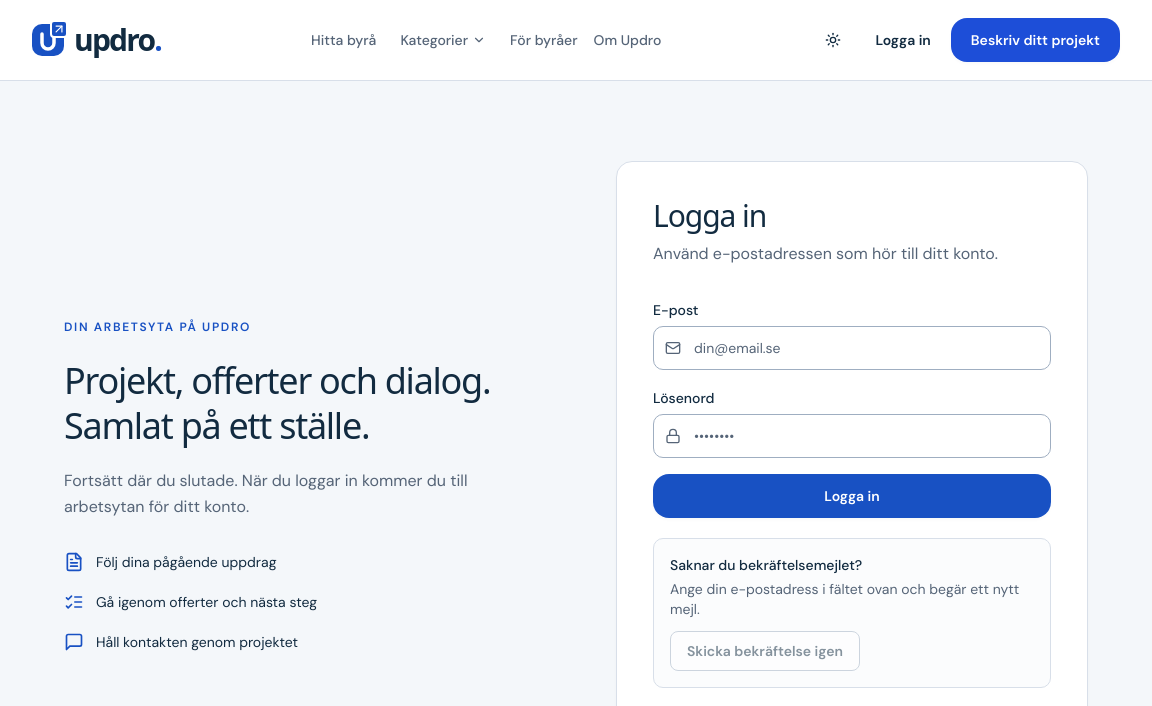
Test: explains email_not_confirmed separately on the login form
The width and height of the screenshot is (1152, 706).
Step 1. Type "user@example.test" into the field labelled "E-post" → (852, 348), box x1=653 y1=326 x2=1051 y2=370
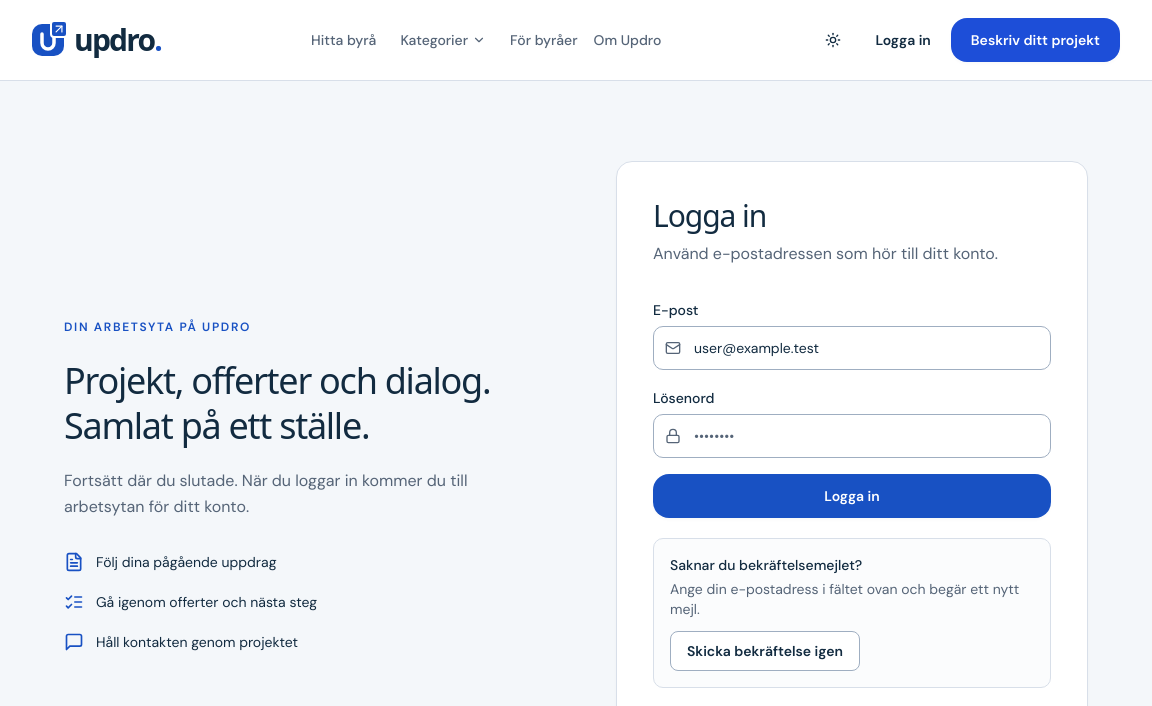
Step 2. Type "password" into the password field labelled "Lösenord" → (852, 436), box x1=653 y1=414 x2=1051 y2=458
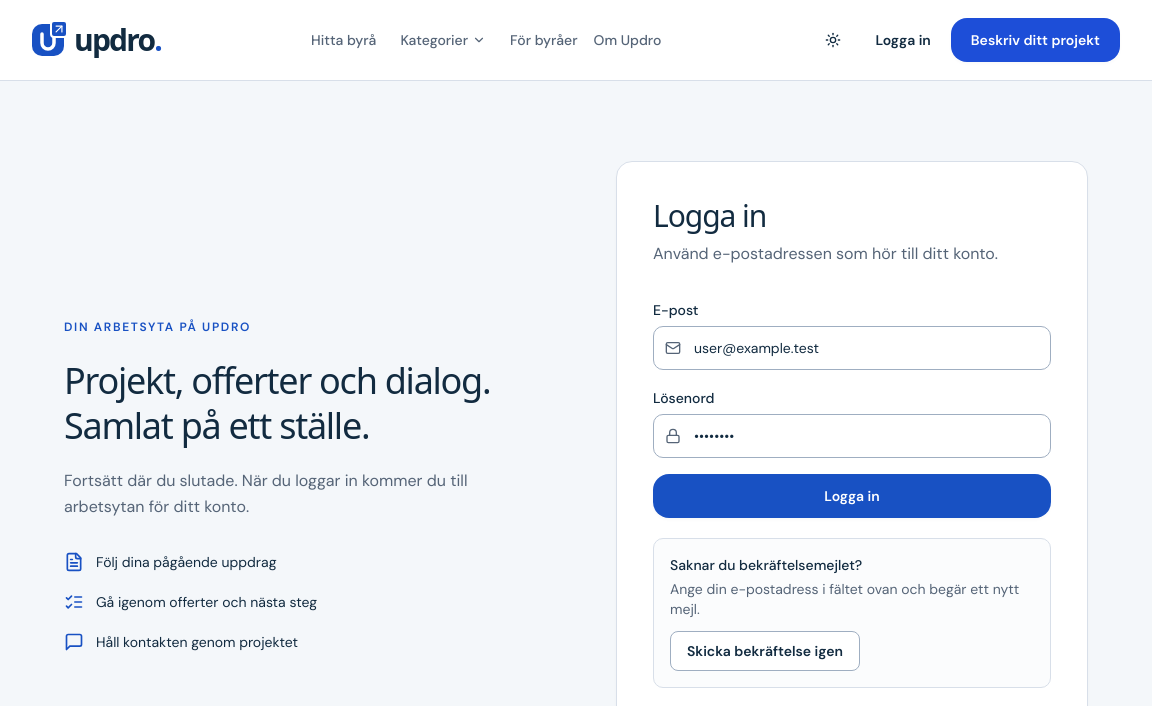
Step 3. Click the button "Logga in" → (852, 496), box x1=653 y1=474 x2=1051 y2=518
(page scrolled)
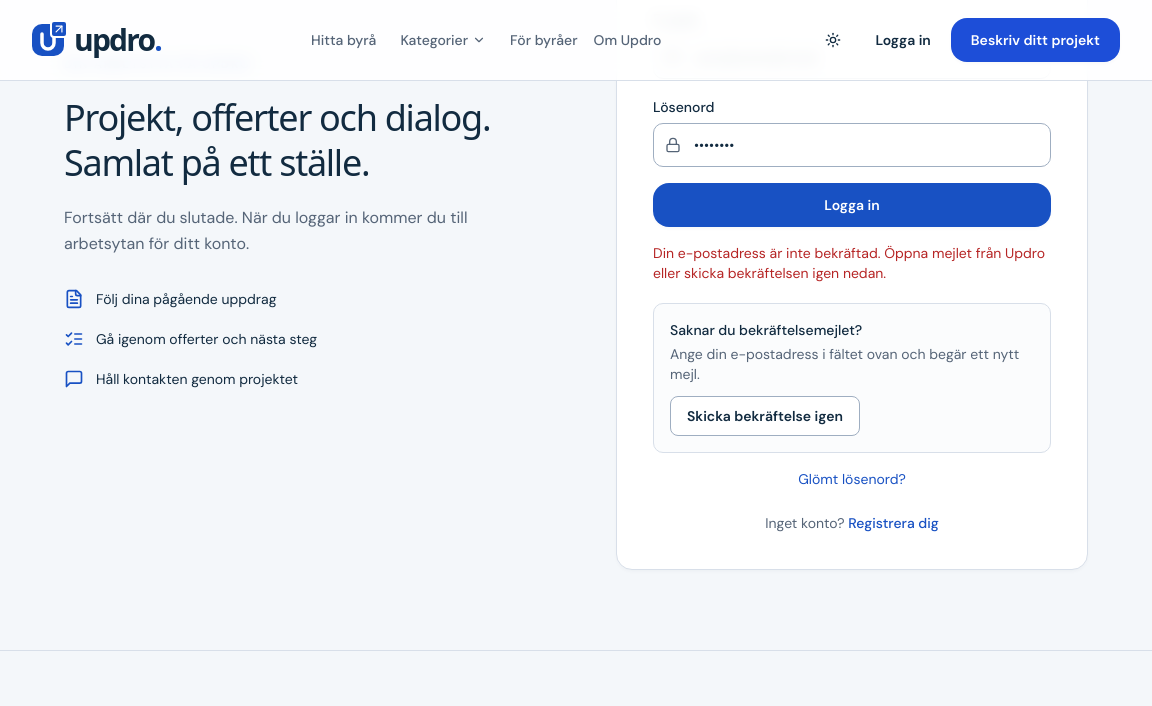
Expected: the button "Skicka bekräftelse igen" is enabled, x1=670 y1=396 x2=860 y2=436
Expected: the message shows "Din e-postadress är inte bekräftad.", x1=653 y1=244 x2=1045 y2=282
